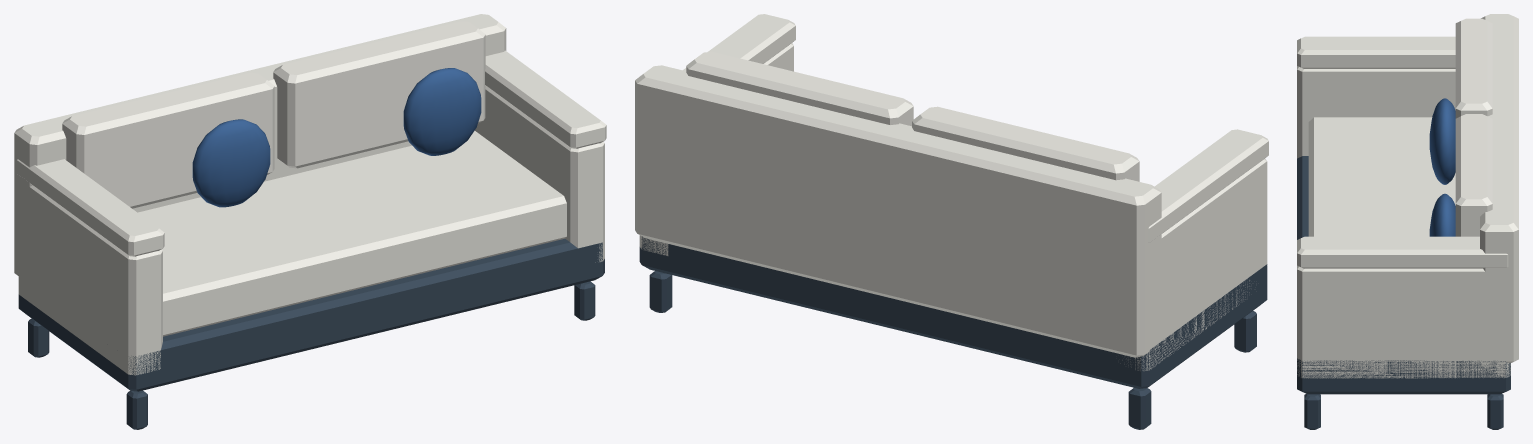
The model's file is v18_interior_cream_sofa.glb.
The picture shows the model from 3 angles, left to right: view 1: azimuth 30°, elevation 25°; view 2: azimuth 150°, elevation 25°; view 3: azimuth 270°, elevation 25°; orthographic projection. The views are drawn at different scales.
Parts seen in each view (by area): view 1: _MeshInstance3D_4590, _MeshInstance3D_4589, _MeshInstance3D_4598, _MeshInstance3D_4592, _MeshInstance3D_4596, _MeshInstance3D_4594, _MeshInstance3D_4591, _MeshInstance3D_4593, _MeshInstance3D_4597, _MeshInstance3D_4599, _MeshInstance3D_4595, _MeshInstance3D_4586 (+2 smaller); view 2: _MeshInstance3D_4591, _MeshInstance3D_4589, _MeshInstance3D_4592, _MeshInstance3D_4596, _MeshInstance3D_4598, _MeshInstance3D_4593, _MeshInstance3D_4595, _MeshInstance3D_4585, _MeshInstance3D_4587, _MeshInstance3D_4594, _MeshInstance3D_4586; view 3: _MeshInstance3D_4594, _MeshInstance3D_4590, _MeshInstance3D_4591, _MeshInstance3D_4592, _MeshInstance3D_4589, _MeshInstance3D_4595, _MeshInstance3D_4593, _MeshInstance3D_4598, _MeshInstance3D_4596, _MeshInstance3D_4597, _MeshInstance3D_4599, _MeshInstance3D_4587 (+1 smaller).
Part boxes in pixels (x1=…): _MeshInstance3D_4590: x1=138, y1=130, x2=566, y2=336; _MeshInstance3D_4589: x1=18, y1=238, x2=604, y2=391; _MeshInstance3D_4598: x1=273, y1=21, x2=485, y2=168; _MeshInstance3D_4592: x1=18, y1=179, x2=162, y2=375; _MeshInstance3D_4596: x1=62, y1=72, x2=274, y2=208; _MeshInstance3D_4594: x1=475, y1=86, x2=604, y2=262; _MeshInstance3D_4591: x1=14, y1=14, x2=506, y2=275; _MeshInstance3D_4593: x1=17, y1=159, x2=164, y2=256; _MeshInstance3D_4597: x1=192, y1=119, x2=270, y2=207; _MeshInstance3D_4599: x1=403, y1=68, x2=481, y2=155; _MeshInstance3D_4595: x1=485, y1=50, x2=606, y2=148; _MeshInstance3D_4586: x1=126, y1=390, x2=147, y2=429; _MeshInstance3D_4591: x1=635, y1=65, x2=1161, y2=357; _MeshInstance3D_4589: x1=639, y1=236, x2=1267, y2=388; _MeshInstance3D_4592: x1=1120, y1=158, x2=1267, y2=370; _MeshInstance3D_4596: x1=912, y1=106, x2=1139, y2=181; _MeshInstance3D_4598: x1=686, y1=51, x2=913, y2=126; _MeshInstance3D_4593: x1=1148, y1=129, x2=1268, y2=242; _MeshInstance3D_4595: x1=683, y1=14, x2=795, y2=70; _MeshInstance3D_4585: x1=1128, y1=388, x2=1151, y2=429; _MeshInstance3D_4587: x1=649, y1=271, x2=672, y2=312; _MeshInstance3D_4594: x1=639, y1=43, x2=793, y2=255; _MeshInstance3D_4586: x1=1234, y1=311, x2=1256, y2=352; _MeshInstance3D_4594: x1=1297, y1=266, x2=1510, y2=378; _MeshInstance3D_4590: x1=1308, y1=117, x2=1455, y2=236; _MeshInstance3D_4591: x1=1480, y1=14, x2=1518, y2=363; _MeshInstance3D_4592: x1=1297, y1=66, x2=1455, y2=158; _MeshInstance3D_4589: x1=1297, y1=156, x2=1510, y2=394; _MeshInstance3D_4595: x1=1297, y1=236, x2=1508, y2=268; _MeshInstance3D_4593: x1=1297, y1=36, x2=1455, y2=68; _MeshInstance3D_4598: x1=1455, y1=114, x2=1492, y2=236; _MeshInstance3D_4596: x1=1455, y1=18, x2=1492, y2=118; _MeshInstance3D_4597: x1=1429, y1=98, x2=1455, y2=184; _MeshInstance3D_4599: x1=1429, y1=193, x2=1455, y2=236; _MeshInstance3D_4587: x1=1487, y1=394, x2=1503, y2=429.
Bounding box in the file's own units: 2.13 × 1 × 0.9231.
